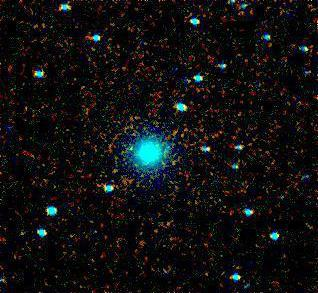star: (105, 135, 135, 165)
